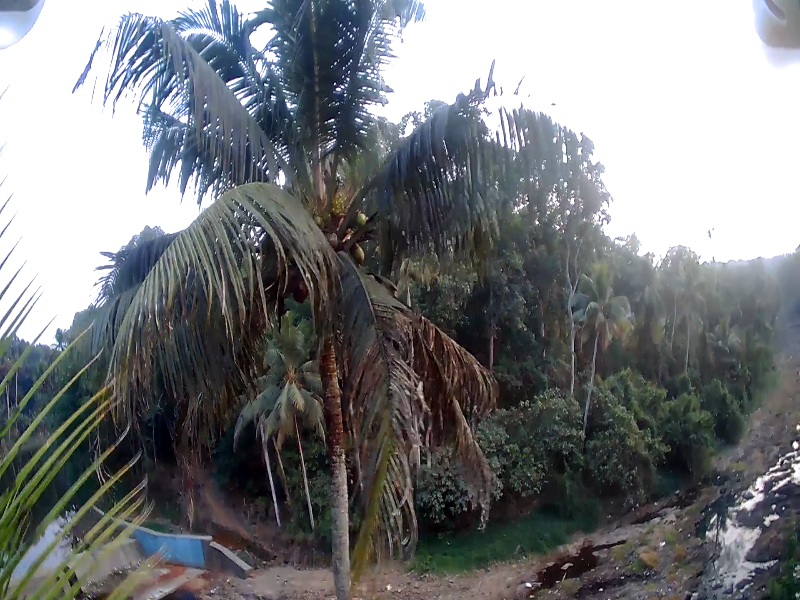coconut: (344, 243, 364, 260), (355, 209, 369, 228), (310, 212, 322, 226)
